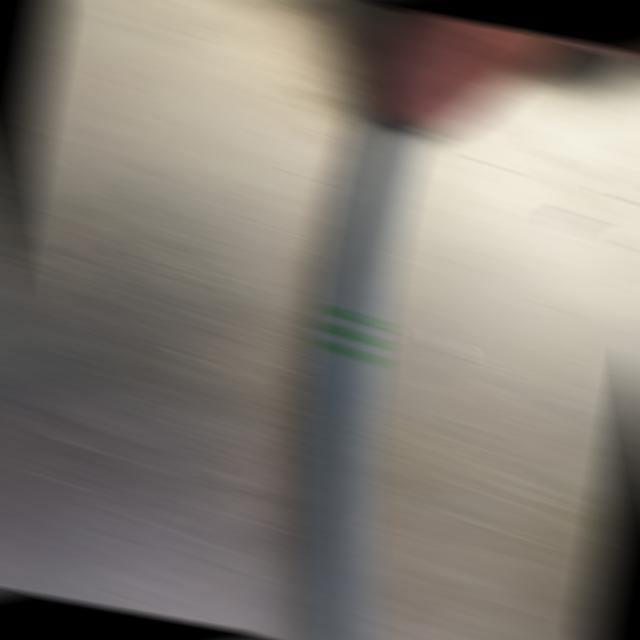green: (310, 304, 388, 366)
